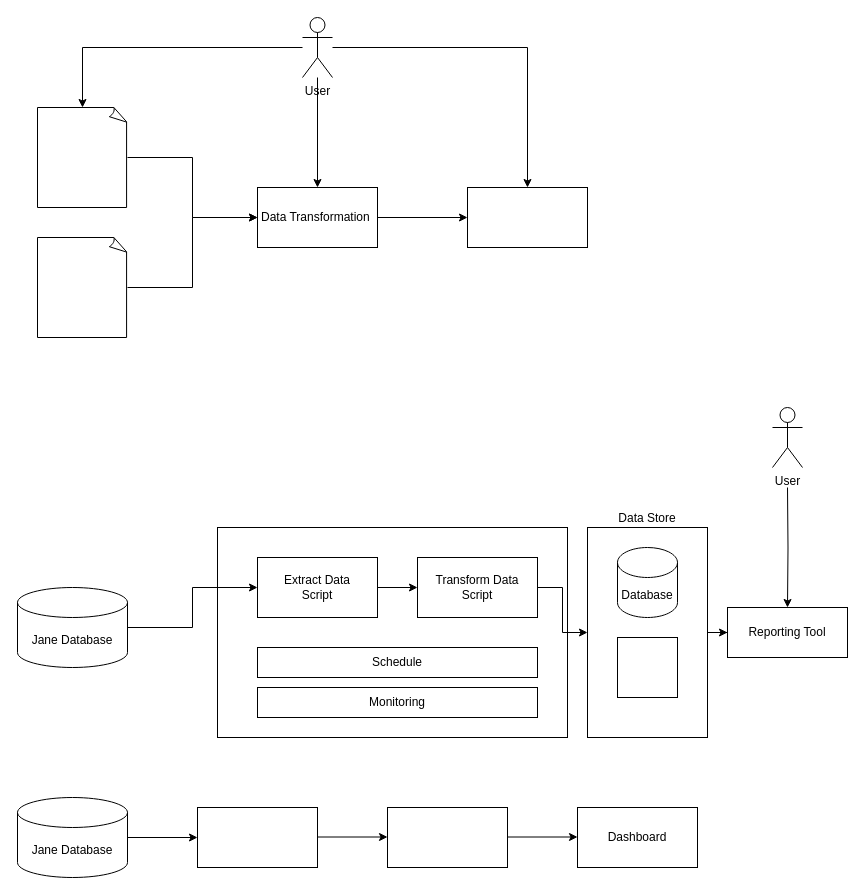
This 865x895 diagram has some shape labels left out. The box of each missing label's shape, as (x1, y1, x2, y2) in pixels:
Clinic Data: (36, 236, 128, 338)
Excel/CSV: (616, 636, 678, 698)
Extract Data Script in Excel or CSV format: (196, 806, 318, 868)
Orchestration Tool (UIPath/ETL): (216, 526, 568, 738)
Staff Data: (36, 106, 128, 208)
Tranforming tool (python openpyxl or Tableau): (386, 806, 508, 868)
Visualization: (466, 186, 588, 248)
